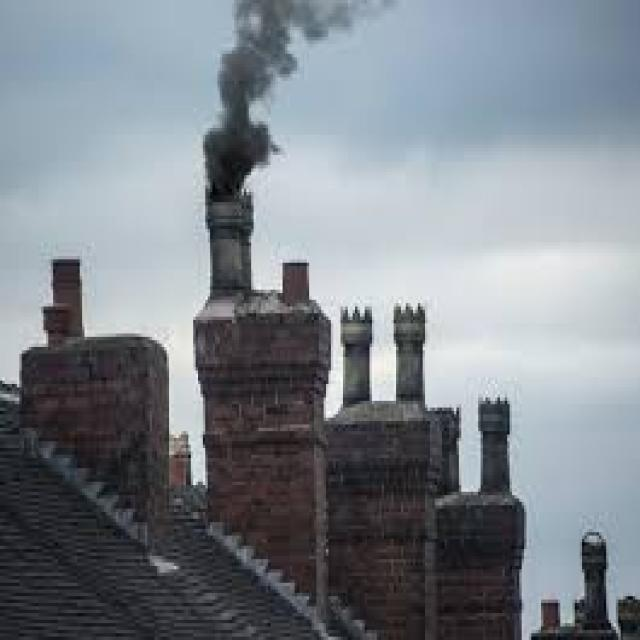Smoke: (203, 0, 400, 200)
